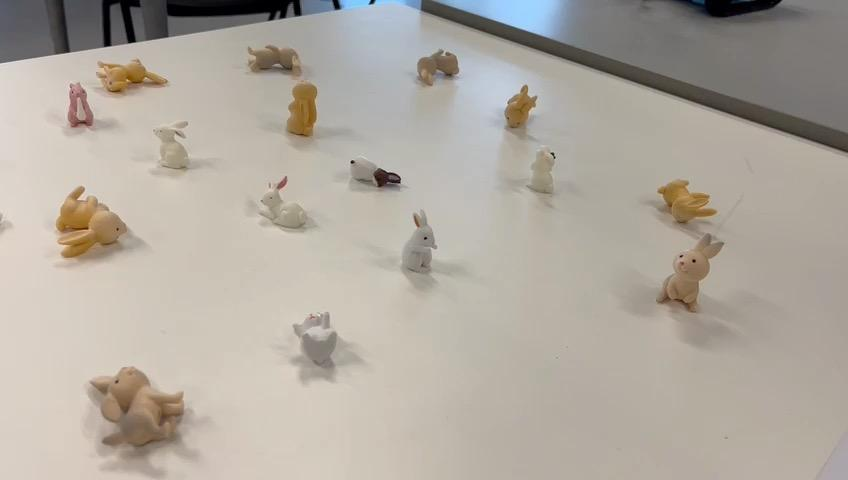pet: (79, 355, 192, 457), (52, 170, 135, 259), (658, 225, 727, 314), (282, 301, 352, 371), (396, 199, 455, 278), (257, 171, 321, 233), (95, 56, 174, 97), (660, 170, 719, 222), (277, 80, 326, 142), (344, 151, 406, 195), (410, 41, 463, 91), (242, 38, 308, 74), (152, 116, 191, 173), (62, 77, 98, 136), (506, 82, 543, 130), (531, 145, 562, 195)
